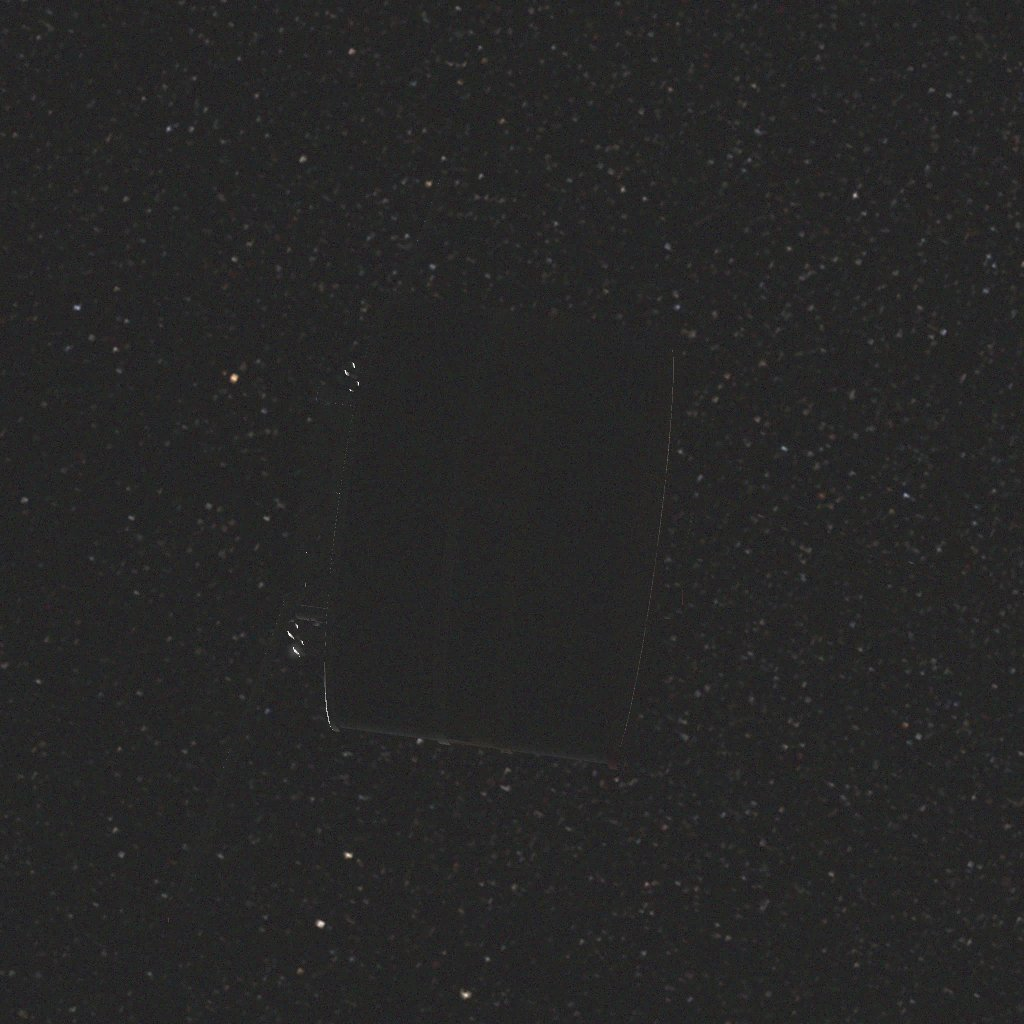double_star: (254, 292, 721, 751)
